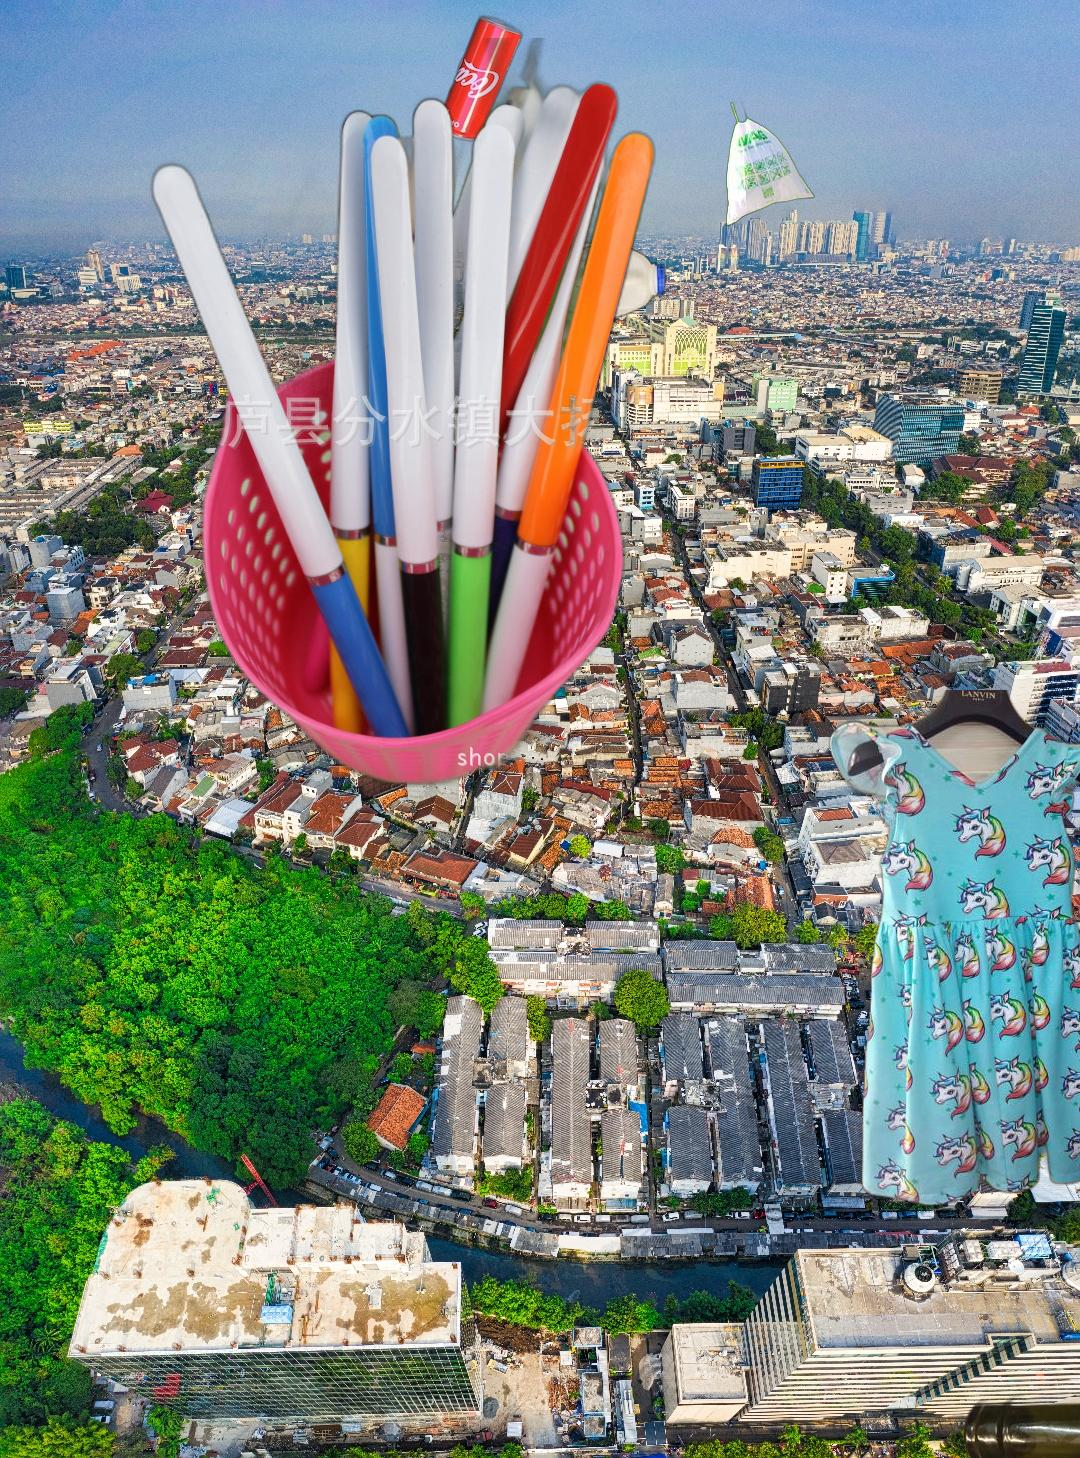clothes: (825, 690, 1080, 1210)
glass: (960, 1315, 1080, 1458)
metal-cans: (432, 10, 832, 391)
penholder: (99, 37, 663, 787), (753, 844, 1080, 1458)
plastic-bag: (723, 100, 817, 229)
plastic-bottles: (552, 237, 670, 334)
